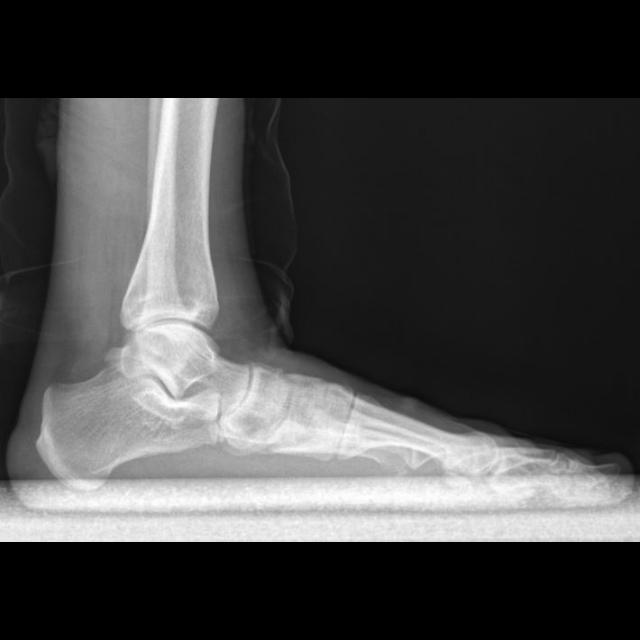a: (33, 367, 220, 493)
b: (223, 363, 295, 444)
c: (338, 391, 497, 477)
